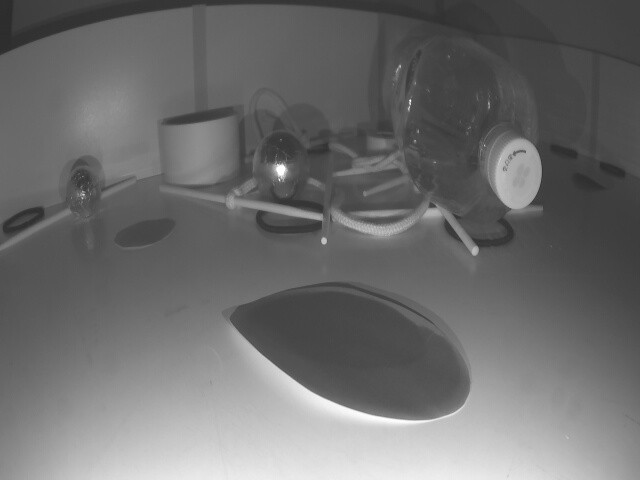Live: (251, 130, 311, 203), (67, 167, 100, 216)
